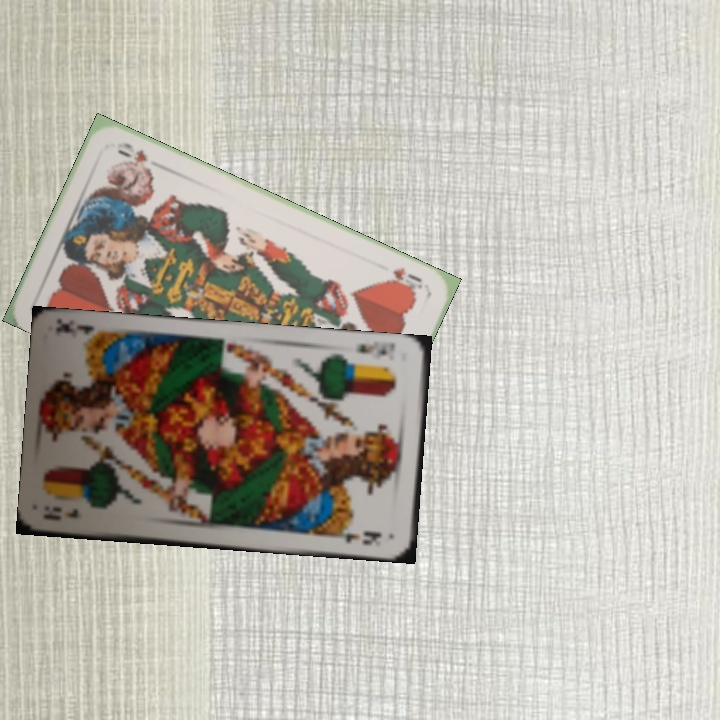EK: (351, 339, 399, 358), (42, 504, 81, 523)
HO: (383, 263, 426, 295)
